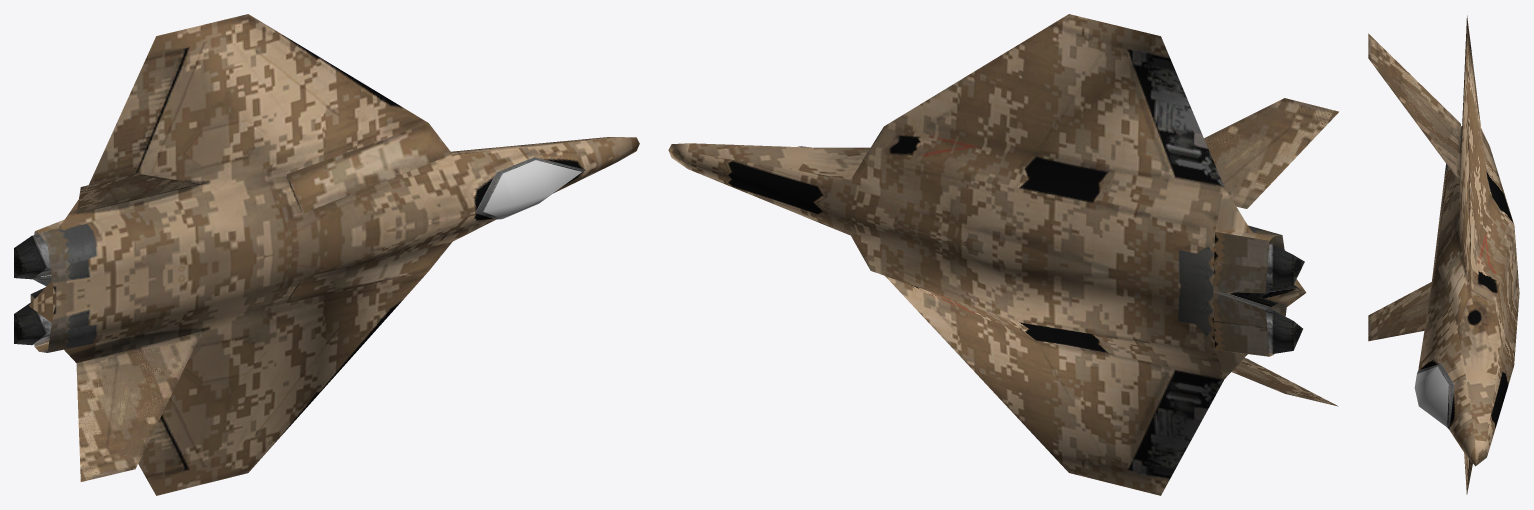
Rendered from veh_t6_air_fa38_killstreak_LOD2.obj.
3 renders of one model, left to right at view 1: azimuth 30°, elevation 25°; view 2: azimuth 150°, elevation 25°; view 3: azimuth 270°, elevation 25°, orthographic. The views are drawn at different scales.
Visible parts, largest first — view 1: mtl_veh_t6_air_fa38_body_friendly, mtl_veh_t6_air_fa38_glass_outside_low, mtl_veh_t6_air_fa38_cockpit_low; view 2: mtl_veh_t6_air_fa38_body_friendly; view 3: mtl_veh_t6_air_fa38_body_friendly, mtl_veh_t6_air_fa38_glass_outside_low, mtl_veh_t6_air_fa38_cockpit_low.
Boxes of the visible parts, x1=… form: mtl_veh_t6_air_fa38_body_friendly: x1=14, y1=14, x2=639, y2=495; mtl_veh_t6_air_fa38_glass_outside_low: x1=483, y1=160, x2=581, y2=218; mtl_veh_t6_air_fa38_cockpit_low: x1=475, y1=157, x2=585, y2=219; mtl_veh_t6_air_fa38_body_friendly: x1=668, y1=14, x2=1338, y2=495; mtl_veh_t6_air_fa38_body_friendly: x1=1368, y1=15, x2=1519, y2=494; mtl_veh_t6_air_fa38_glass_outside_low: x1=1414, y1=366, x2=1448, y2=426; mtl_veh_t6_air_fa38_cockpit_low: x1=1417, y1=363, x2=1454, y2=429.
Size of the model in its own units: 1506 by 1058 by 330.
